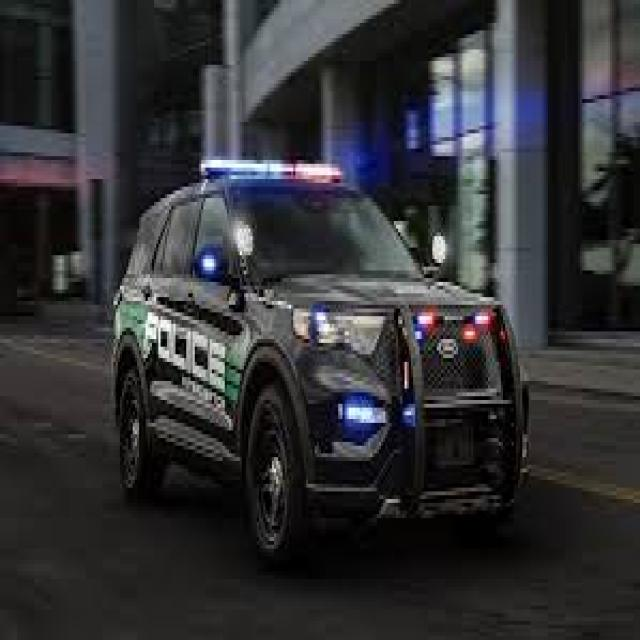cop: (106, 162, 532, 558)
